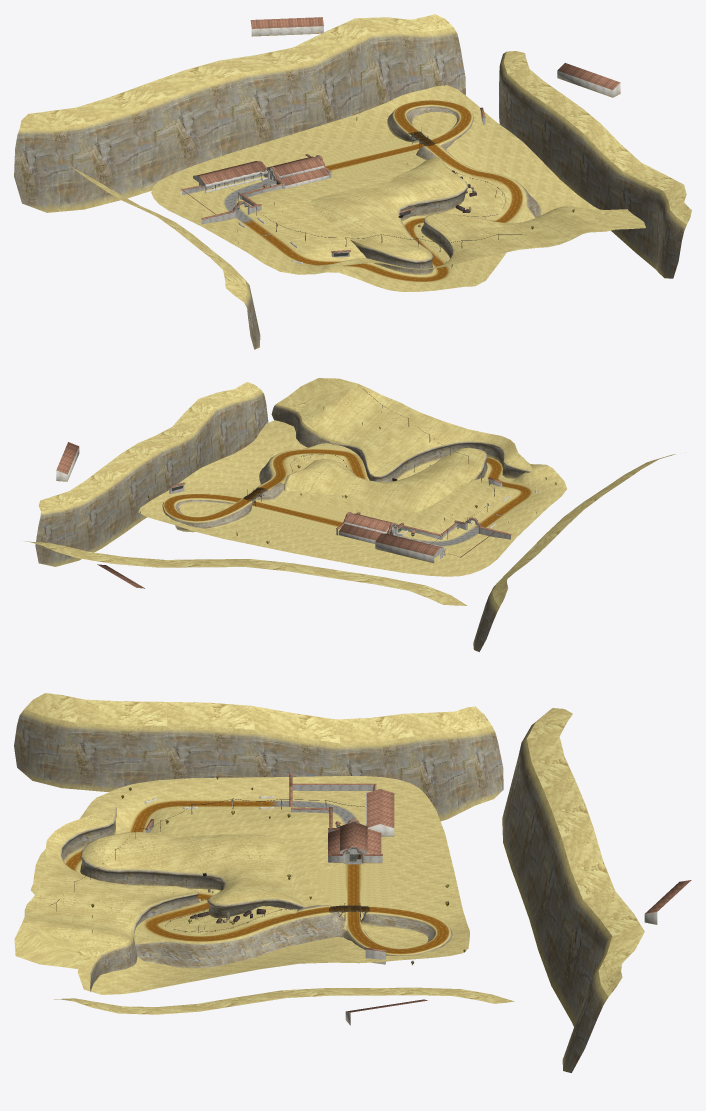
The model's file is hacienda_track.glb.
The picture shows the model from 3 angles, top to bottom: view 1: azimuth 30°, elevation 25°; view 2: azimuth 150°, elevation 25°; view 3: azimuth 270°, elevation 25°; orthographic projection. The views are drawn at different scales.
Parts seen in each view (by area): view 1: yellow_dirt.jpg__, canyon.jpg__, wall.jpg__, traildust.jpg__, trailrock.jpg__; view 2: yellow_dirt.jpg__, canyon.jpg__, traildust.jpg__, wall.jpg__, trailrock.jpg__; view 3: yellow_dirt.jpg__, canyon.jpg__, traildust.jpg__, wall.jpg__, trailrock.jpg__.
Boxes of the visible parts, x1=… form: yellow_dirt.jpg__: x1=20, y1=14, x2=691, y2=301; canyon.jpg__: x1=14, y1=27, x2=686, y2=349; wall.jpg__: x1=180, y1=17, x2=620, y2=263; traildust.jpg__: x1=245, y1=100, x2=523, y2=282; trailrock.jpg__: x1=221, y1=180, x2=269, y2=220; yellow_dirt.jpg__: x1=24, y1=378, x2=675, y2=607; canyon.jpg__: x1=35, y1=389, x2=531, y2=651; traildust.jpg__: x1=163, y1=448, x2=533, y2=528; wall.jpg__: x1=56, y1=442, x2=536, y2=588; trailrock.jpg__: x1=402, y1=527, x2=478, y2=546; yellow_dirt.jpg__: x1=14, y1=693, x2=644, y2=1014; canyon.jpg__: x1=14, y1=709, x2=612, y2=1072; traildust.jpg__: x1=64, y1=798, x2=450, y2=954; wall.jpg__: x1=144, y1=772, x2=691, y2=1025; trailrock.jpg__: x1=281, y1=799, x2=360, y2=825.
Bounding box in the file's own units: 580 × 132 × 562.
Materials: 36 (35 with a texture image).
